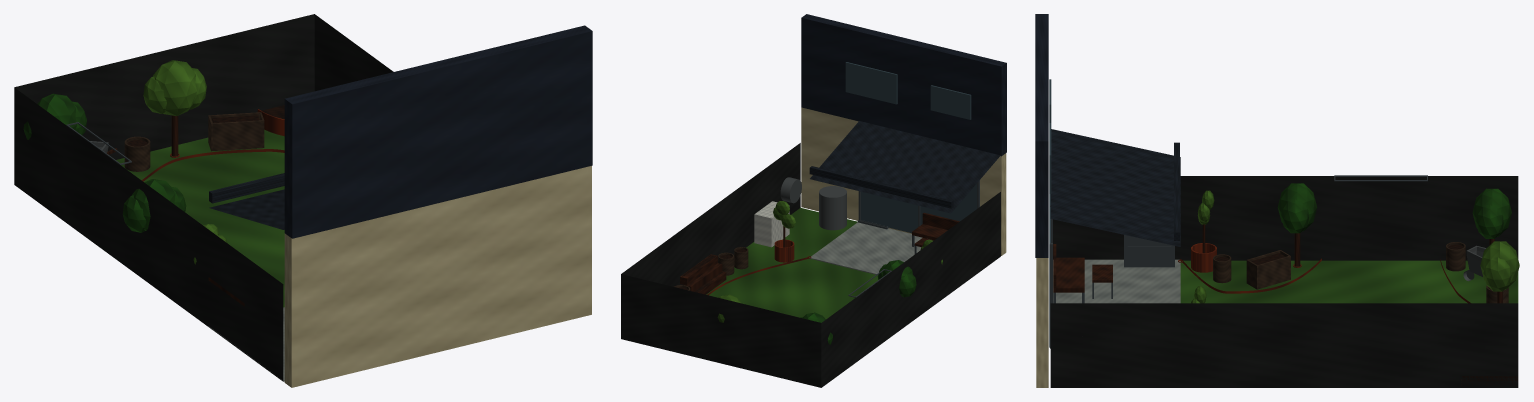
Rendered from garden_v0_18_primary_interactive_model_r2.glb.
The picture shows the model from 3 angles, left to right: view 1: azimuth 30°, elevation 25°; view 2: azimuth 150°, elevation 25°; view 3: azimuth 270°, elevation 25°; orthographic projection. The views are drawn at different scales.
Parts seen in each view (by area): view 1: V018_CONTEXT__HOUSE_LOWER_FACADE_APPROX, V018_CONTEXT__HOUSE_UPPER_FACADE_APPROX, EXISTING__FENCE_LEFT, EXISTING__FENCE_REAR, EXISTING__GROUND_DATUM, EXISTING__FENCE_RIGHT, V018_PROPOSED__MANDARIN_PROXY__CANOPY_A, EXISTING__PATIO_ROOF_APPROX, V010_R10_2_PART__T1__TROUGH_1__TROUGH_WALL_FRONT, V018_CONTEXT__PATIO_FASCIA_APPROX, V018_EXISTING__LEMON_PROXY__CANOPY_A, V010_R10_2_PART__P2__PLANTER_2__CONTAINER (+3 smaller); view 2: V018_CONTEXT__HOUSE_UPPER_FACADE_APPROX, EXISTING__FENCE_REAR, EXISTING__FENCE_LEFT, EXISTING__PATIO_ROOF_APPROX, EXISTING__GROUND_DATUM, EXISTING__FENCE_RIGHT, V018_CONTEXT__HOUSE_LOWER_FACADE_APPROX, EXISTING__PATIO, V018_CONTEXT__SLIDING_GLASS_APPROX, V018_CONTEXT__UPPER_WINDOW_RIGHT, V018_CONTEXT__PATIO_FASCIA_APPROX, V010_R5_APPROVED__WF__WORM (+9 smaller); view 3: EXISTING__FENCE_RIGHT, EXISTING__FENCE_LEFT, EXISTING__PATIO_ROOF_APPROX, EXISTING__GROUND_DATUM, EXISTING__PATIO, V018_CONTEXT__HOUSE_UPPER_FACADE_APPROX, V018_CONTEXT__HOUSE_LOWER_FACADE_APPROX, V010_R10_2_PART__WK__WORK__CABINET, V010_R10_2_PART__LS__LOUNGE__SEAT, V018_PROPOSED__MANDARIN_PROXY__CANOPY_A, V018_EXISTING__LEMON_PROXY__CANOPY_A, V018_EXISTING__LIME_PROXY__CANOPY_A (+9 smaller).
Boxes of the visible parts, x1,y1,x2,y2 form: V018_CONTEXT__HOUSE_LOWER_FACADE_APPROX: (284, 166, 591, 387); V018_CONTEXT__HOUSE_UPPER_FACADE_APPROX: (284, 25, 592, 238); EXISTING__FENCE_LEFT: (14, 87, 283, 381); EXISTING__FENCE_REAR: (14, 14, 314, 159); EXISTING__GROUND_DATUM: (116, 129, 284, 307); EXISTING__FENCE_RIGHT: (314, 14, 393, 91); V018_PROPOSED__MANDARIN_PROXY__CANOPY_A: (152, 60, 196, 115); EXISTING__PATIO_ROOF_APPROX: (209, 189, 284, 229); V010_R10_2_PART__T1__TROUGH_1__TROUGH_WALL_FRONT: (213, 120, 262, 150); V018_CONTEXT__PATIO_FASCIA_APPROX: (209, 173, 284, 203); V018_EXISTING__LEMON_PROXY__CANOPY_A: (37, 93, 77, 129); V010_R10_2_PART__P2__PLANTER_2__CONTAINER: (124, 136, 150, 171); V018_CONTEXT__HOUSE_UPPER_FACADE_APPROX: (801, 14, 1006, 156); EXISTING__FENCE_REAR: (621, 274, 821, 387); EXISTING__FENCE_LEFT: (821, 192, 1000, 387); EXISTING__PATIO_ROOF_APPROX: (810, 121, 1000, 213); EXISTING__GROUND_DATUM: (706, 207, 878, 319); EXISTING__FENCE_RIGHT: (621, 143, 800, 286); V018_CONTEXT__HOUSE_LOWER_FACADE_APPROX: (801, 107, 1006, 255); EXISTING__PATIO: (810, 222, 1000, 274); V018_CONTEXT__SLIDING_GLASS_APPROX: (861, 184, 976, 233); V018_CONTEXT__UPPER_WINDOW_RIGHT: (845, 62, 897, 104); V018_CONTEXT__PATIO_FASCIA_APPROX: (809, 166, 953, 208); V010_R5_APPROVED__WF__WORM: (819, 186, 846, 230); EXISTING__FENCE_RIGHT: (1050, 303, 1518, 387); EXISTING__FENCE_LEFT: (1053, 176, 1518, 260); EXISTING__PATIO_ROOF_APPROX: (1050, 129, 1180, 246); EXISTING__GROUND_DATUM: (1180, 260, 1518, 303); EXISTING__PATIO: (1053, 259, 1180, 303); V018_CONTEXT__HOUSE_UPPER_FACADE_APPROX: (1035, 14, 1048, 257); V018_CONTEXT__HOUSE_LOWER_FACADE_APPROX: (1036, 258, 1048, 387); V010_R10_2_PART__WK__WORK__CABINET: (1124, 235, 1174, 267); V010_R10_2_PART__LS__LOUNGE__SEAT: (1053, 257, 1084, 292); V018_PROPOSED__MANDARIN_PROXY__CANOPY_A: (1480, 241, 1519, 289); V018_EXISTING__LEMON_PROXY__CANOPY_A: (1472, 188, 1511, 236); V018_EXISTING__LIME_PROXY__CANOPY_A: (1277, 183, 1317, 231).
Size of the model in its own units: 6.08 by 5.24 by 9.33.
Materials: 16 (13 with a texture image).
